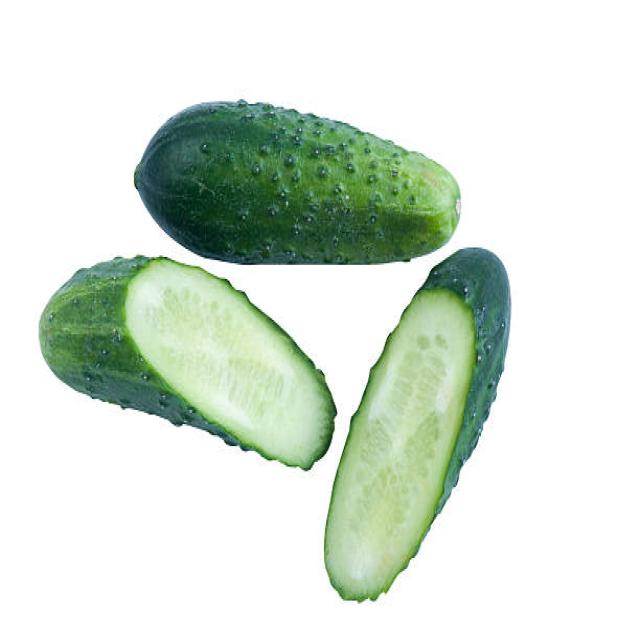cucumber: (325, 245, 511, 604), (38, 255, 335, 470), (134, 97, 460, 267)
